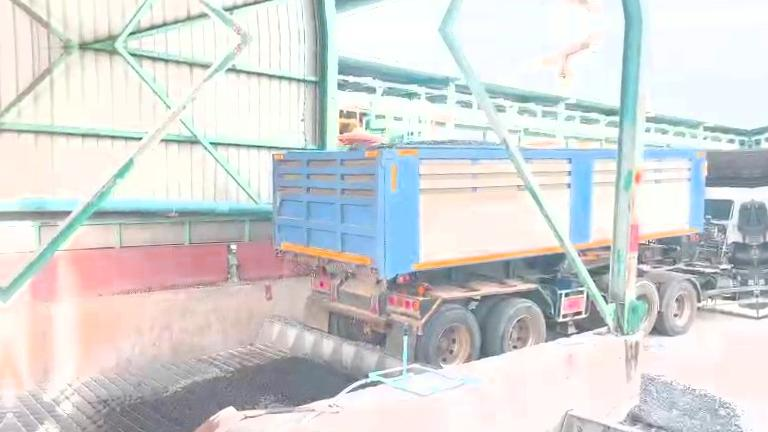gravel: (627, 375, 748, 432)
